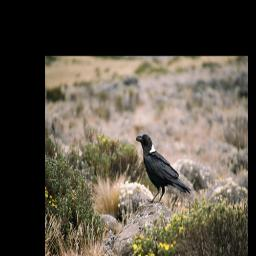Crow: (134, 131, 192, 206)
